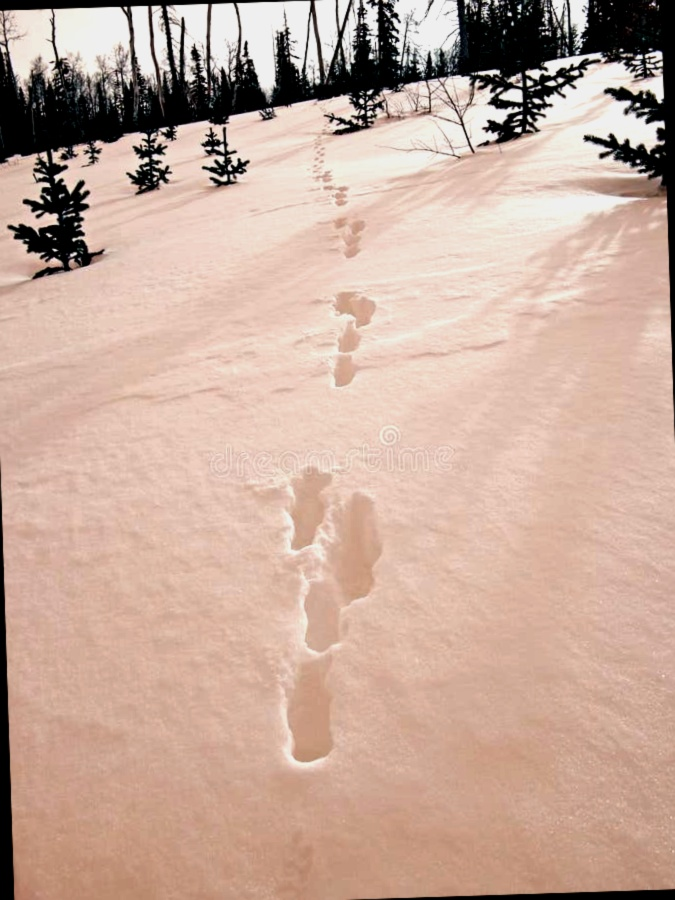lapin: (271, 446, 391, 657), (265, 655, 358, 773), (312, 282, 389, 401), (332, 205, 379, 270)
